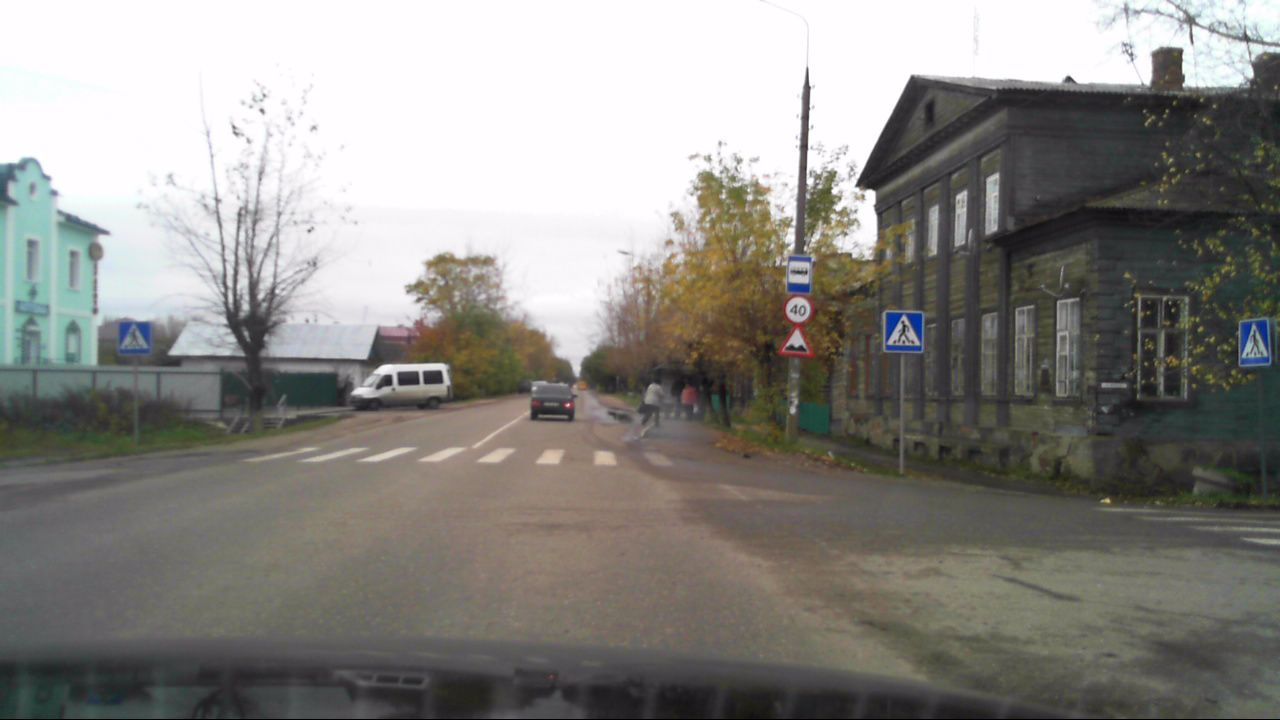speed_warning_40: (783, 296, 813, 325)
